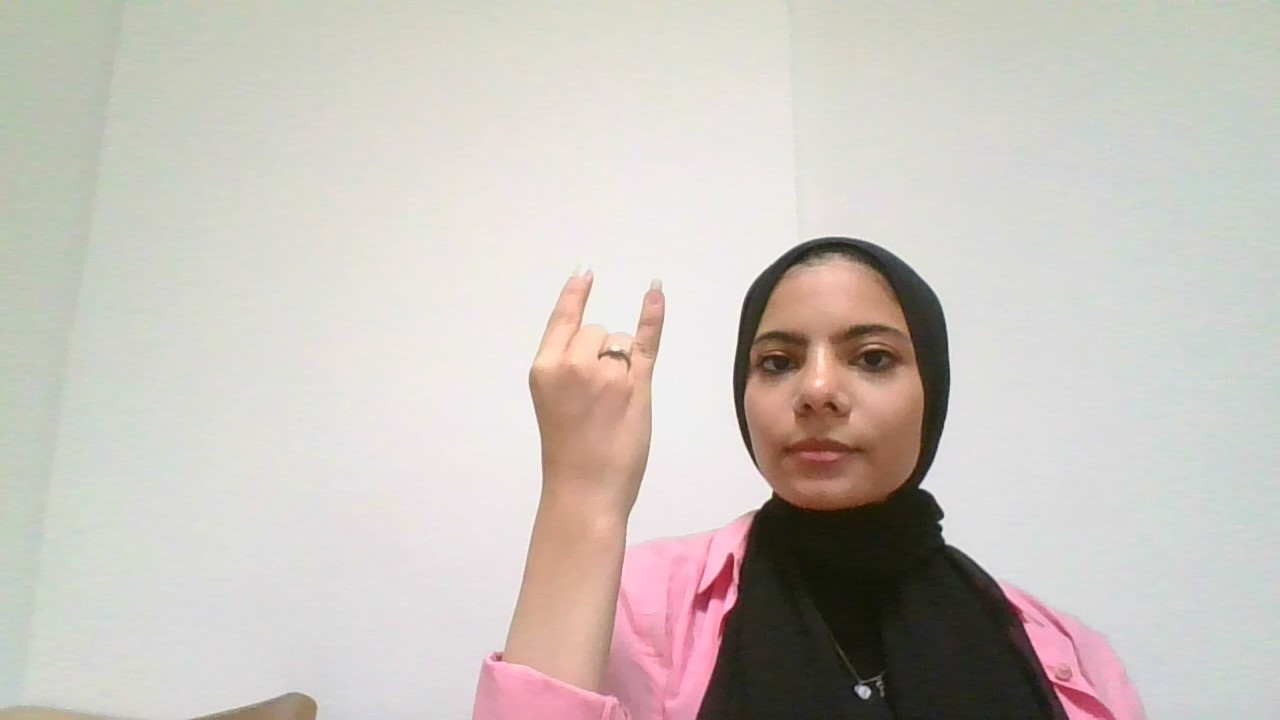love: (513, 243, 699, 549)
